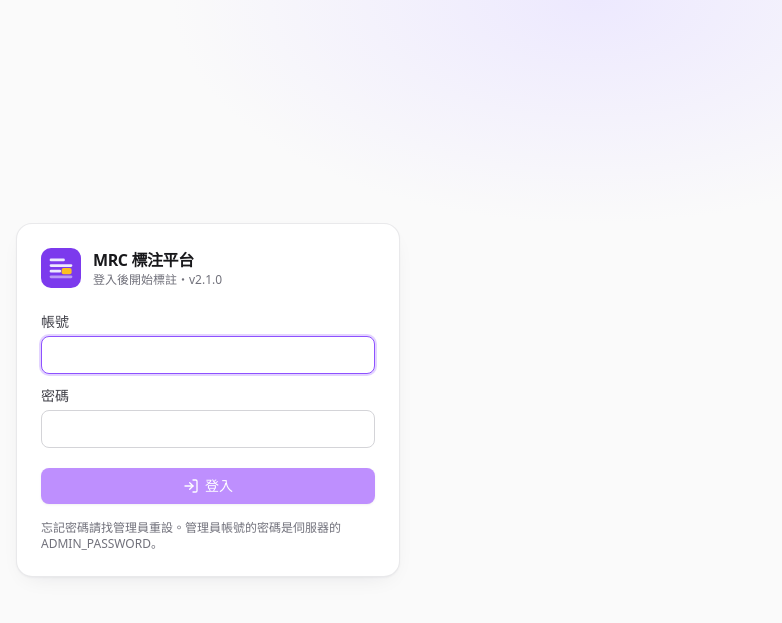
built-in login › shows the server's message when the password is wrong
The image size is (782, 623).
Type "admin" into the field labelled "帳號" at {"x": 208, "y": 355}, box x1=41 y1=336 x2=375 y2=374
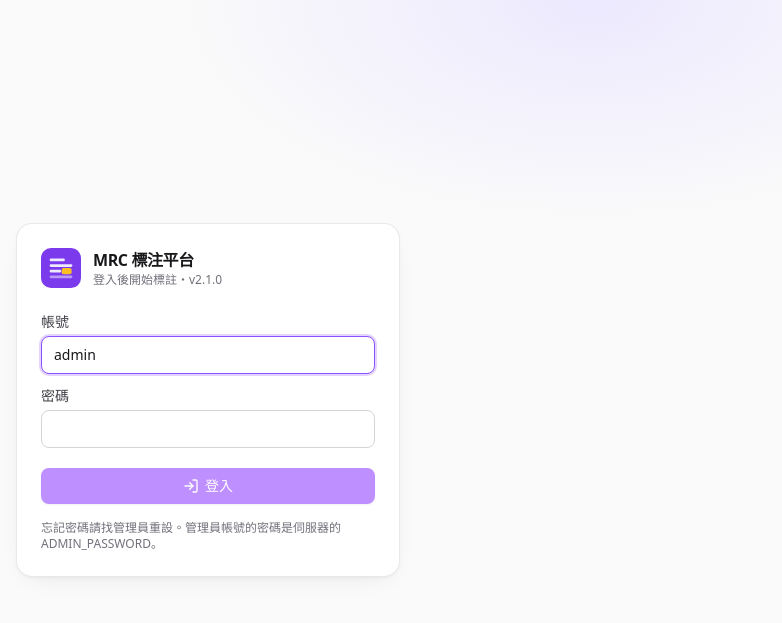
Type "wrong-password" into the password field labelled "密碼" at {"x": 208, "y": 429}, box x1=41 y1=410 x2=375 y2=448
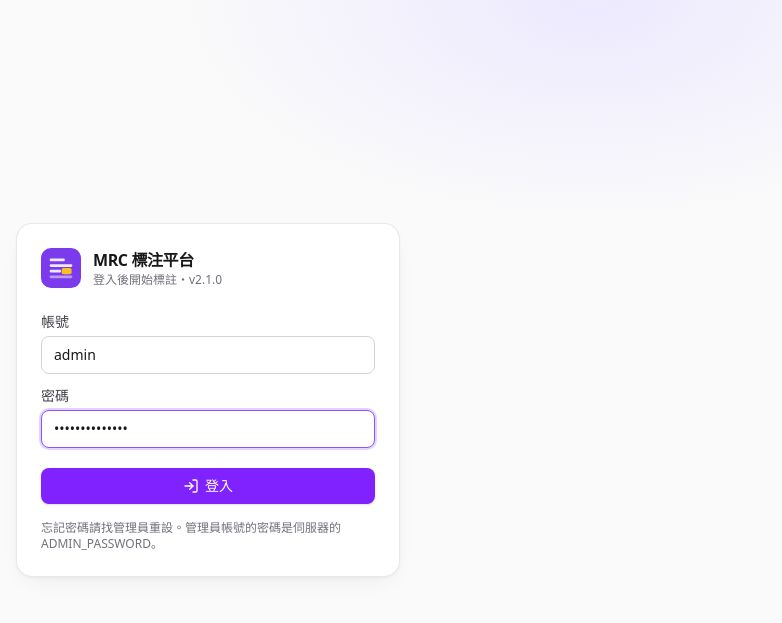
Click the button "登入" at {"x": 208, "y": 486}, box x1=41 y1=468 x2=375 y2=504
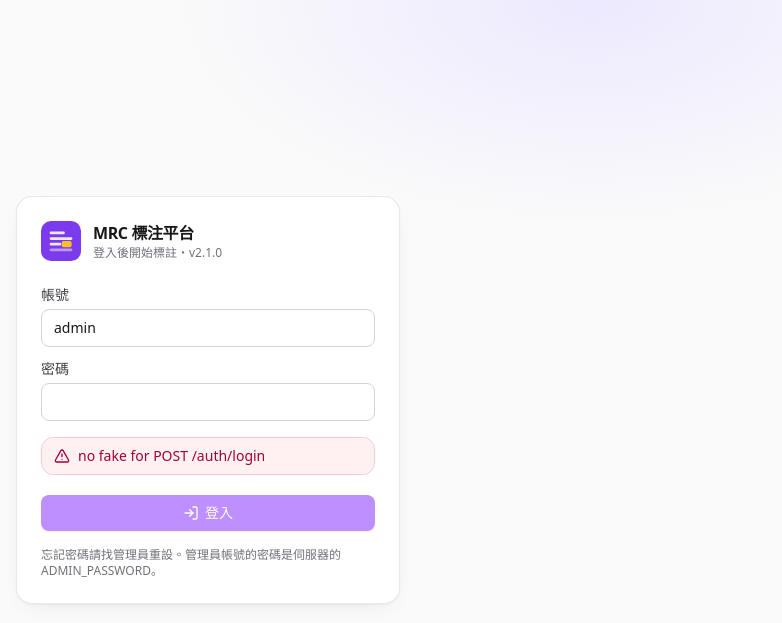
Result: the message reads "no fake for POST /auth/login" at x1=78 y1=446 x2=265 y2=465
